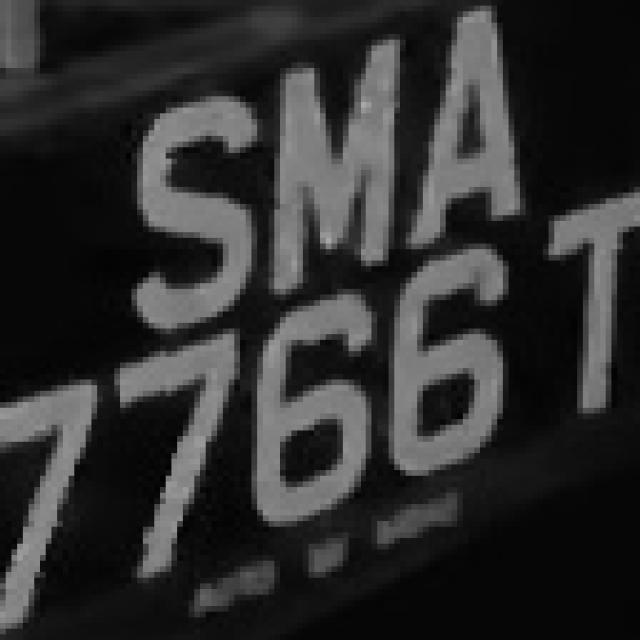6: (240, 300, 400, 538), (366, 266, 531, 487)
7: (97, 334, 246, 606), (11, 357, 103, 617)
A: (412, 17, 572, 244)
M: (246, 28, 400, 289)
S: (103, 85, 274, 334)
T: (537, 185, 640, 432), (5, 2, 6, 4)
